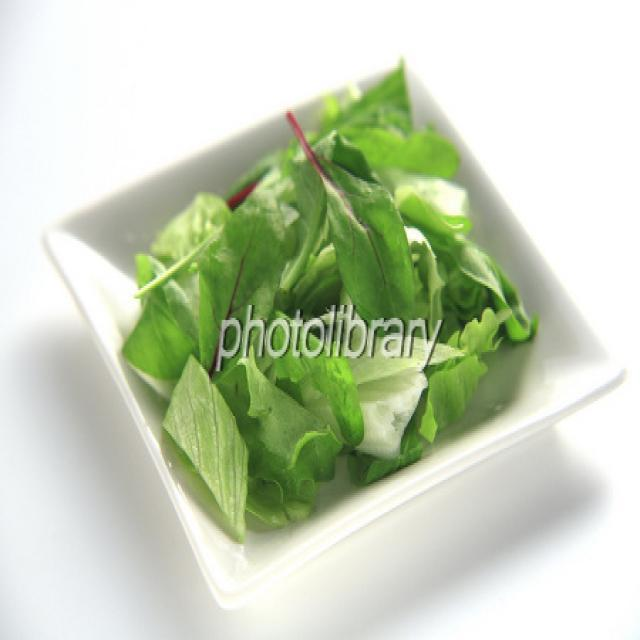Green Salad: (138, 90, 526, 482)
